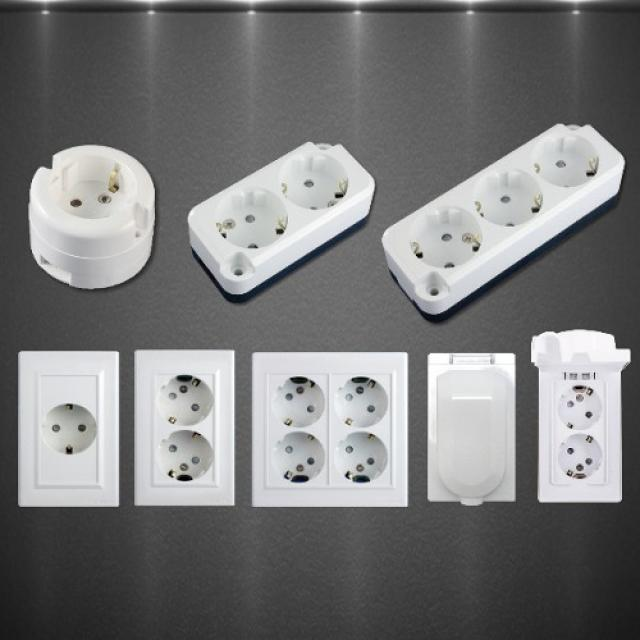typeb: (368, 100, 638, 322), (243, 332, 419, 536), (10, 328, 126, 539), (525, 312, 635, 528), (136, 332, 244, 538), (417, 334, 520, 528)
